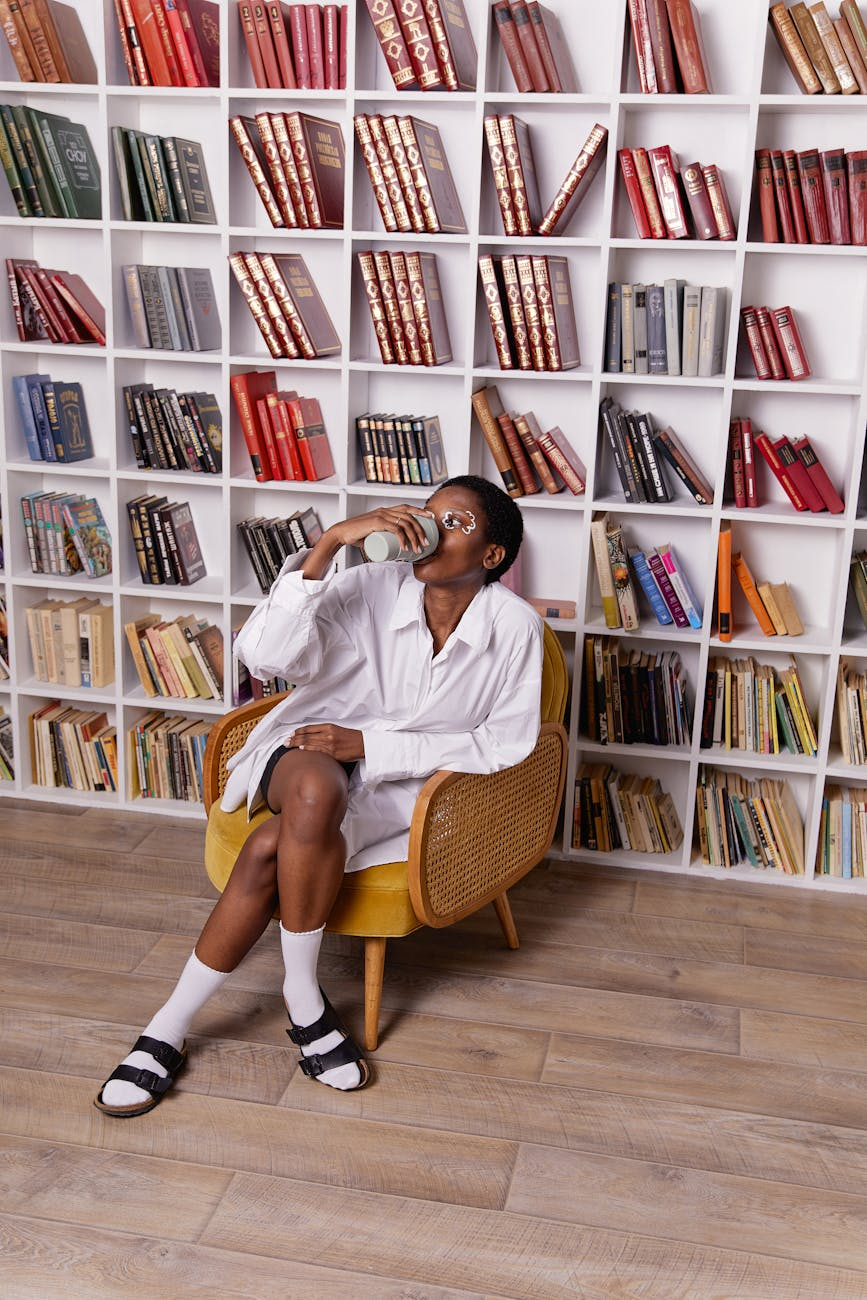opened_foot: (274, 994, 378, 1108), (90, 1032, 193, 1122)
shorts: (220, 732, 449, 868)
